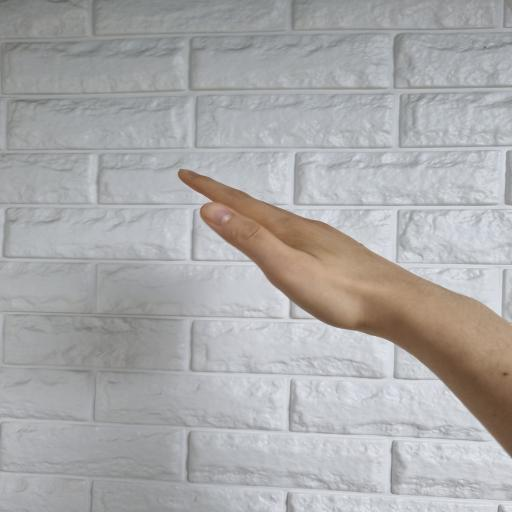Paper: (176, 166, 396, 333)
